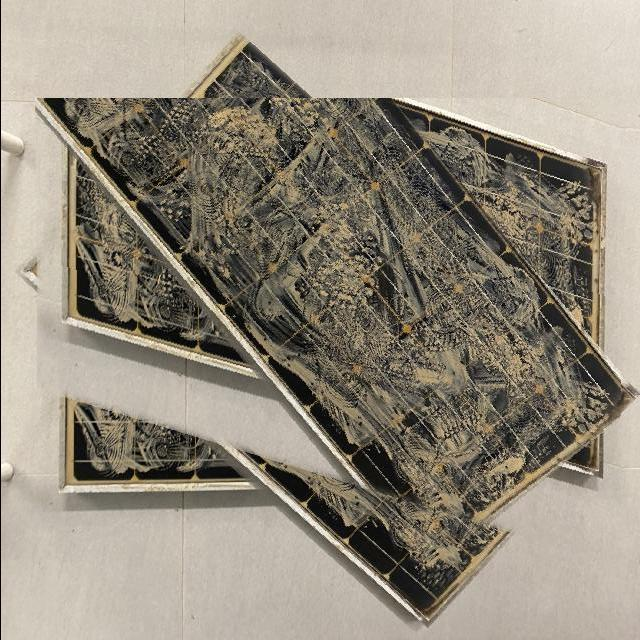Dusty: (47, 98, 625, 519), (403, 107, 607, 344), (66, 153, 245, 358), (238, 447, 500, 587), (66, 396, 237, 477), (208, 50, 308, 99)
